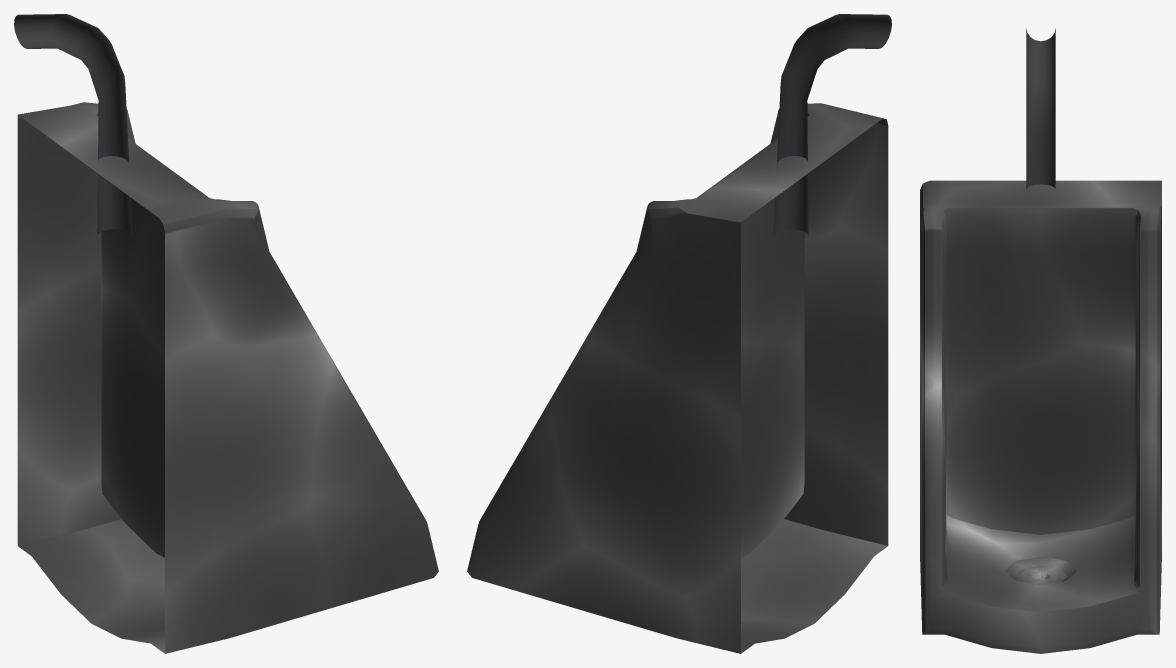
File: urinal.fbx
3 views of the same model, side by side, from view 1: azimuth 30°, elevation 25°; view 2: azimuth 150°, elevation 25°; view 3: azimuth 270°, elevation 25° (orthographic). The views are drawn at different scales.
Parts seen in each view (by area): view 1: Circle; view 2: Circle; view 3: Circle.
Part boxes in pixels (box(x1,y1,x2,y2)): Circle: box(14, 14, 438, 653); Circle: box(467, 14, 891, 653); Circle: box(920, 28, 1161, 653).
Bounding box in the file's own units: 397 × 681 × 291.
2 materials, 1 textured.
